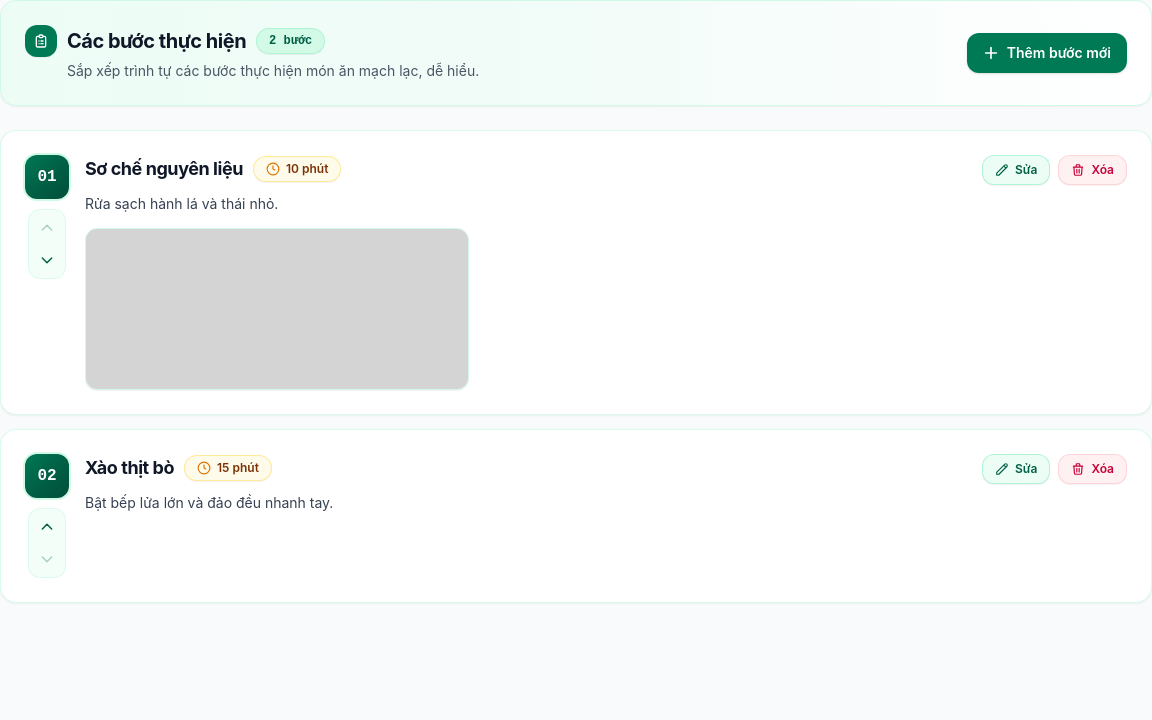
Scenario: StepEditor Component › 9. Delete + Confirmation: Mở modal hỏi xác nhận trước khi xóa
The width and height of the screenshot is (1152, 720).
// Nhấn Xóa ở bước 1
Step 1. Click the button with test id "btn-delete-step-0" → click(1093, 170), box [1058,155,1127,185]
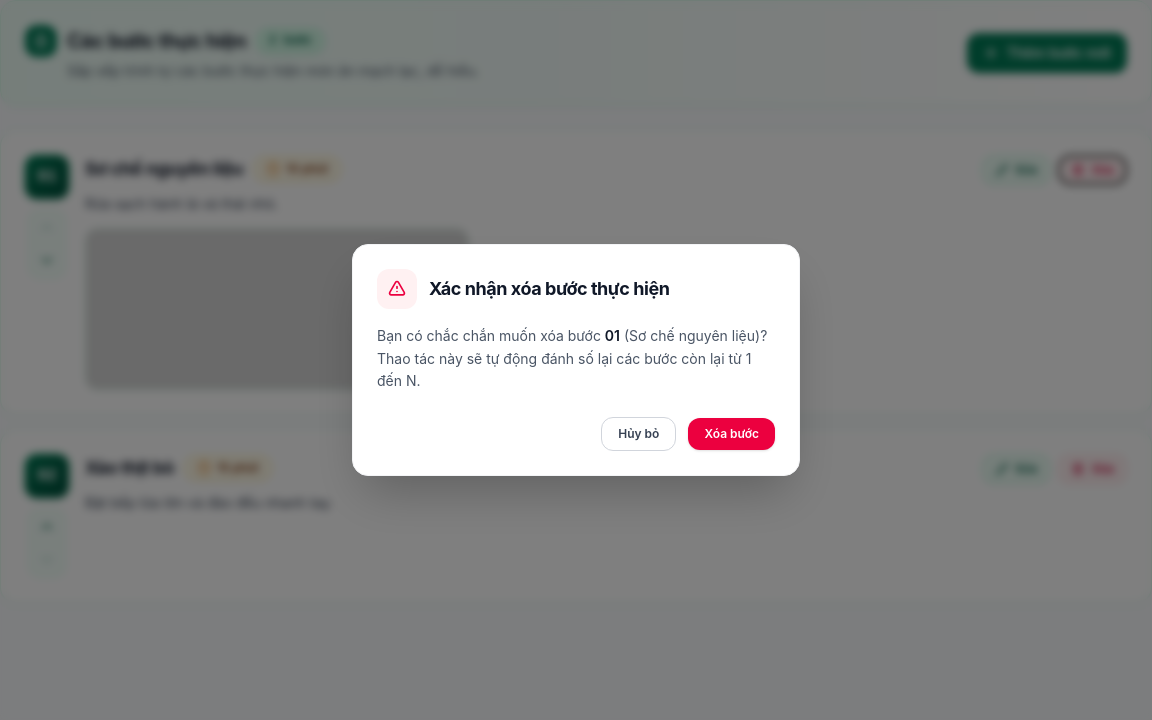
Expected: the dialog with test id "delete-confirmation-dialog" is shown
Expected: the heading "Xác nhận xóa bước thực hiện" is shown, [429,275,670,303]
// Bấm nút Hủy bỏ
Step 2. Click the button with test id "btn-cancel-delete" → click(639, 434), box [601,417,676,451]
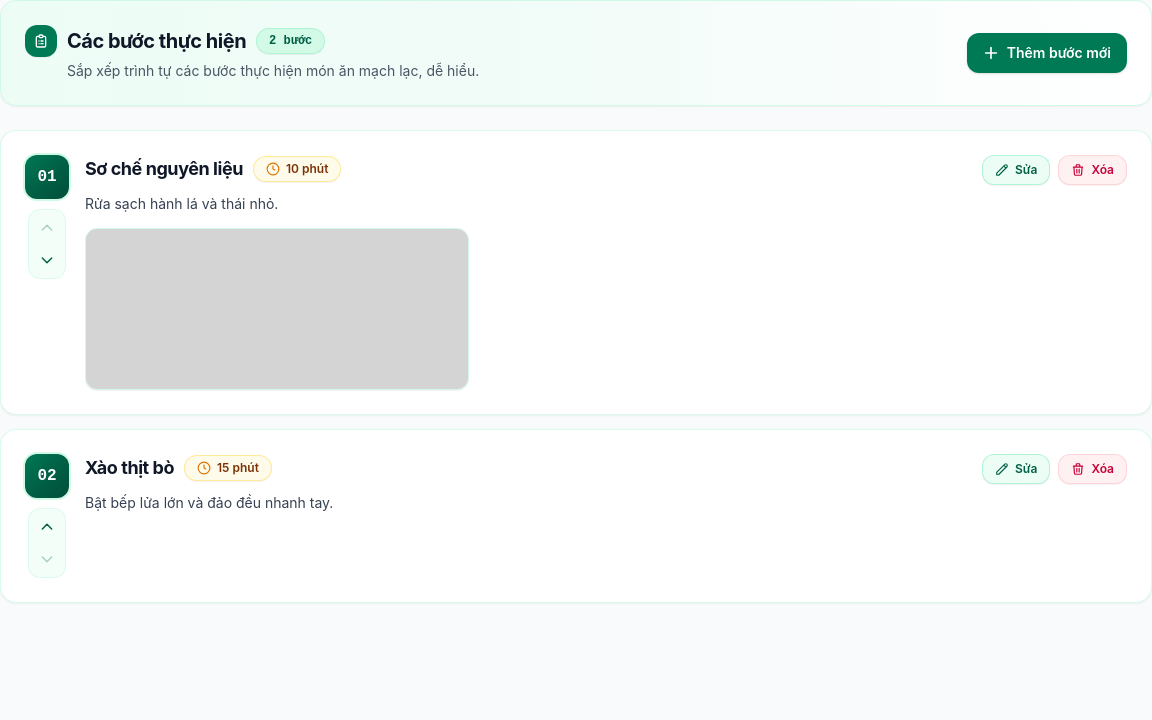
Expected: the dialog with test id "delete-confirmation-dialog" is gone
// Bấm lại Xóa và bấm Xác nhận
Step 3. Click the button with test id "btn-delete-step-0" → click(1093, 170), box [1058,155,1127,185]
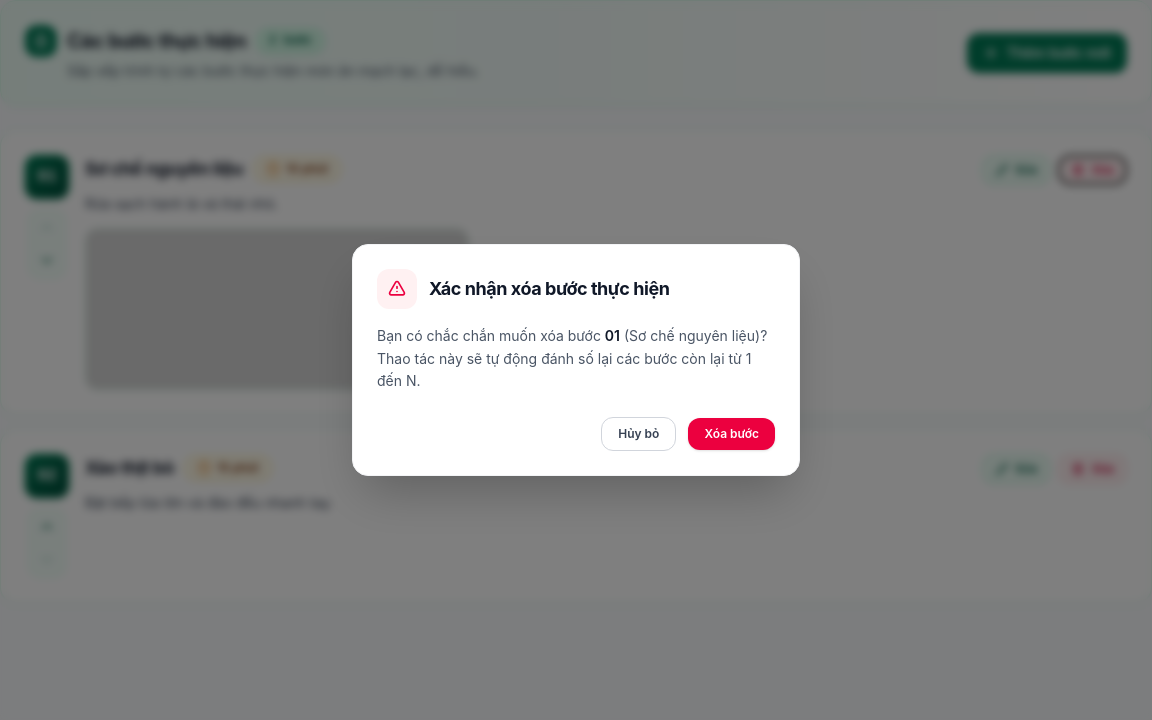
Step 4. Click the button with test id "btn-confirm-delete" → click(732, 434), box [688,418,775,450]
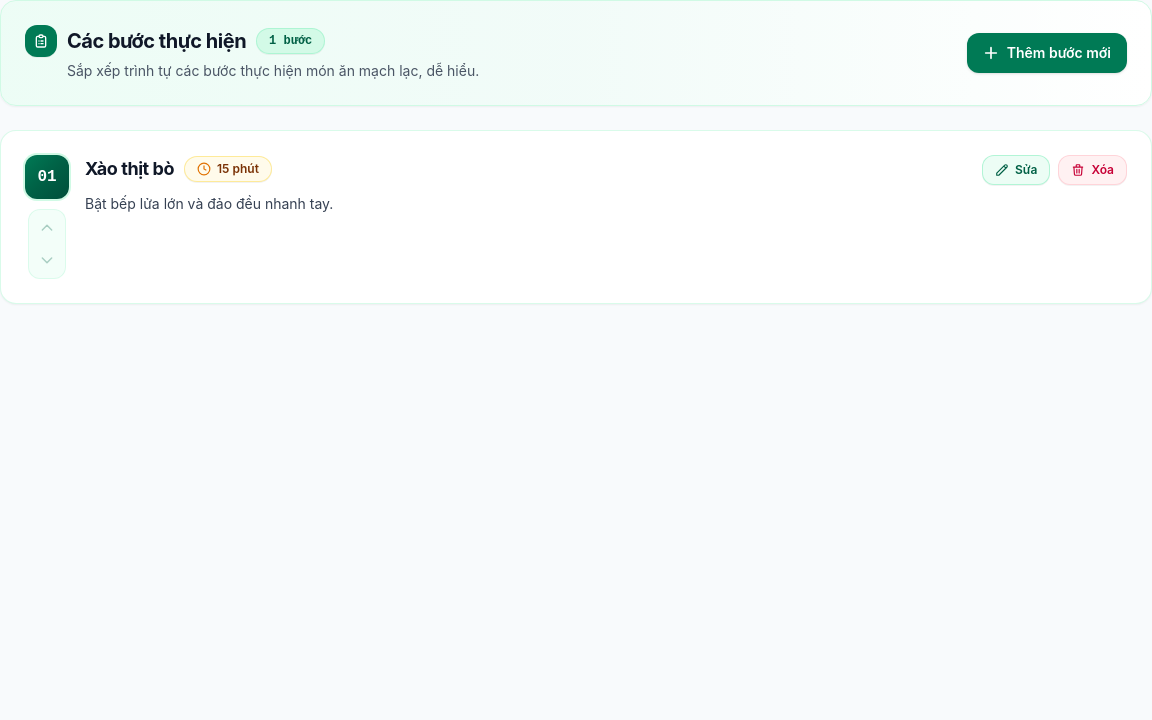
Expected: the heading "Xào thịt bò" is shown, [85,155,174,183]
Expected: the heading "Sơ chế nguyên liệu" is gone
